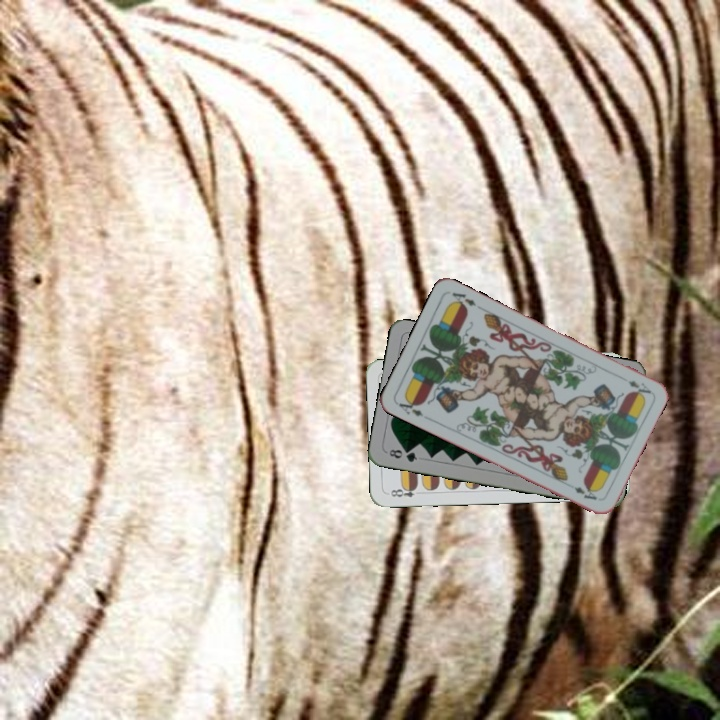E8: (386, 482, 425, 500)
EA: (393, 394, 431, 422), (624, 376, 654, 398)
G8: (385, 445, 420, 465)
